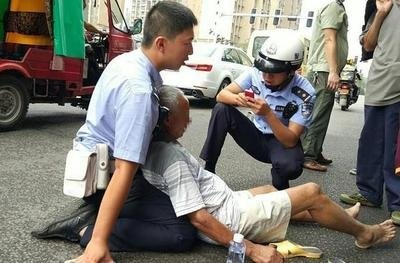falling: (136, 64, 390, 255)
